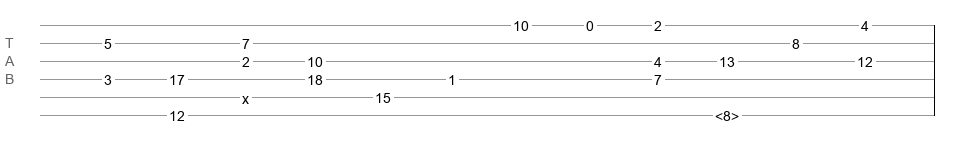0: (586, 18, 594, 28)
1: (448, 72, 456, 82)
10: (307, 54, 323, 64), (513, 18, 529, 28)
12: (169, 108, 185, 118), (857, 54, 873, 64)
13: (719, 54, 735, 64)
15: (375, 90, 391, 100)
17: (169, 72, 185, 82)
18: (307, 72, 323, 82)
2: (242, 54, 250, 64), (654, 18, 662, 28)
3: (104, 72, 112, 82)
4: (654, 54, 662, 64), (861, 18, 869, 28)
5: (104, 36, 112, 46)
7: (242, 36, 250, 46), (654, 72, 662, 82)
8: (792, 36, 800, 46)
harmonic: (715, 108, 739, 118)
x: (242, 91, 249, 99)
